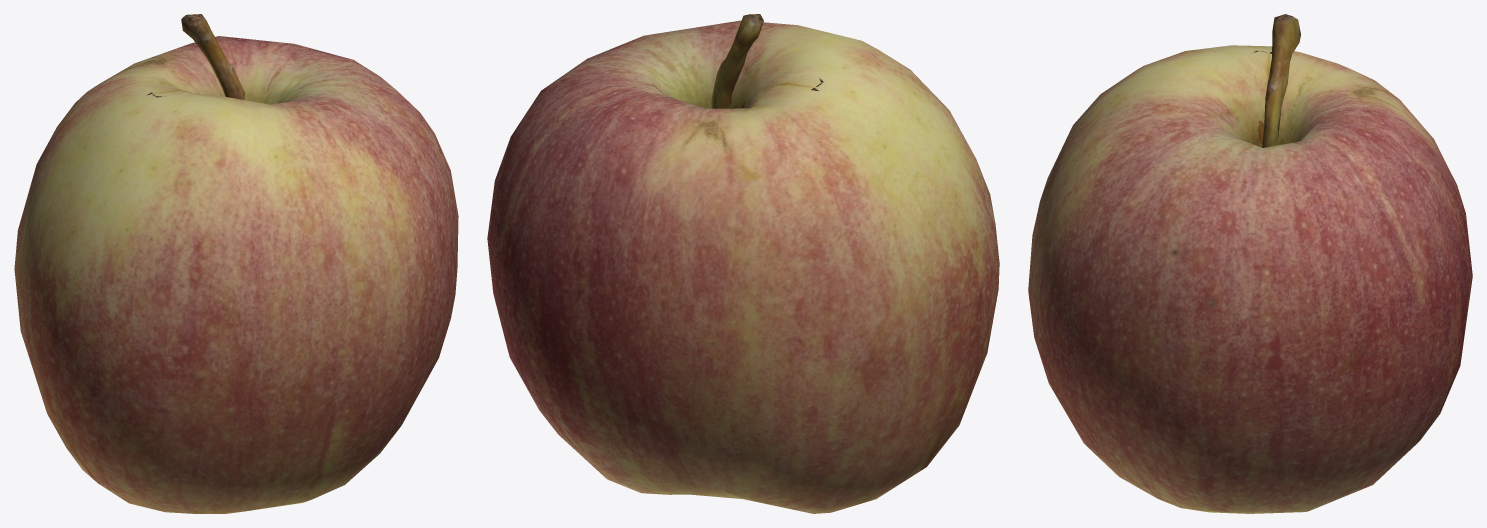
File: apple4.fbx
The picture shows the model from 3 angles, left to right: view 1: azimuth 30°, elevation 25°; view 2: azimuth 150°, elevation 25°; view 3: azimuth 270°, elevation 25°; orthographic projection. The views are drawn at different scales.
Visible parts, largest first — view 1: apple04_lr; view 2: apple04_lr; view 3: apple04_lr.
Boxes of the visible parts, left/top/right/bottom form: apple04_lr: left=14, top=14, right=458, bottom=513; apple04_lr: left=487, top=14, right=999, bottom=513; apple04_lr: left=1028, top=14, right=1472, bottom=513.
Size of the model in its own units: 92.18 by 99.57 by 88.02.
